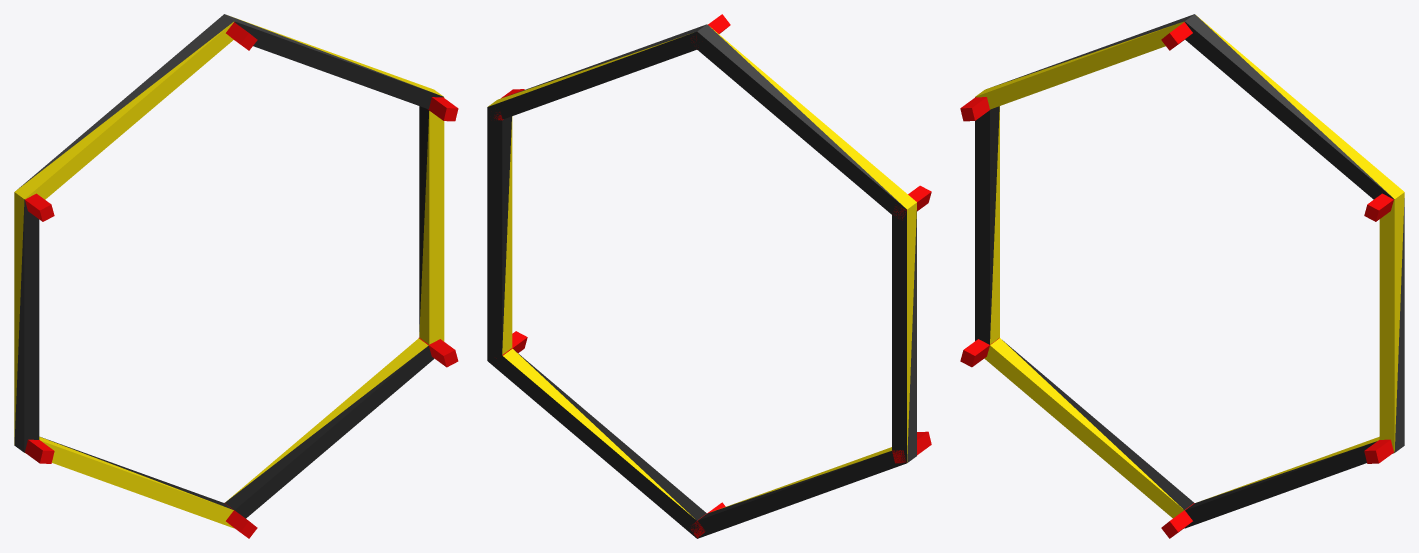
The model's file is cordon.obj.
The picture shows the model from 3 angles, left to right: view 1: azimuth 30°, elevation 25°; view 2: azimuth 150°, elevation 25°; view 3: azimuth 330°, elevation 25°; orthographic projection.
Parts seen in each view (by area): view 1: Tube001, Box006, Box005, Box004, Box003; view 2: Tube001; view 3: Tube001, Box003, Box004, Box005, Box006.
Boxes of the visible parts, x1,y1,x2,y2 form: Tube001: [14, 14, 444, 528]; Box006: [419, 337, 458, 367]; Box005: [25, 193, 54, 221]; Box004: [427, 97, 458, 121]; Box003: [25, 439, 54, 463]; Tube001: [487, 24, 916, 538]; Tube001: [975, 14, 1404, 528]; Box003: [960, 338, 999, 367]; Box004: [1364, 193, 1393, 221]; Box005: [960, 97, 990, 121]; Box006: [1364, 439, 1393, 463].
Size of the model in its own units: 2.42 by 2.8 by 0.25.
